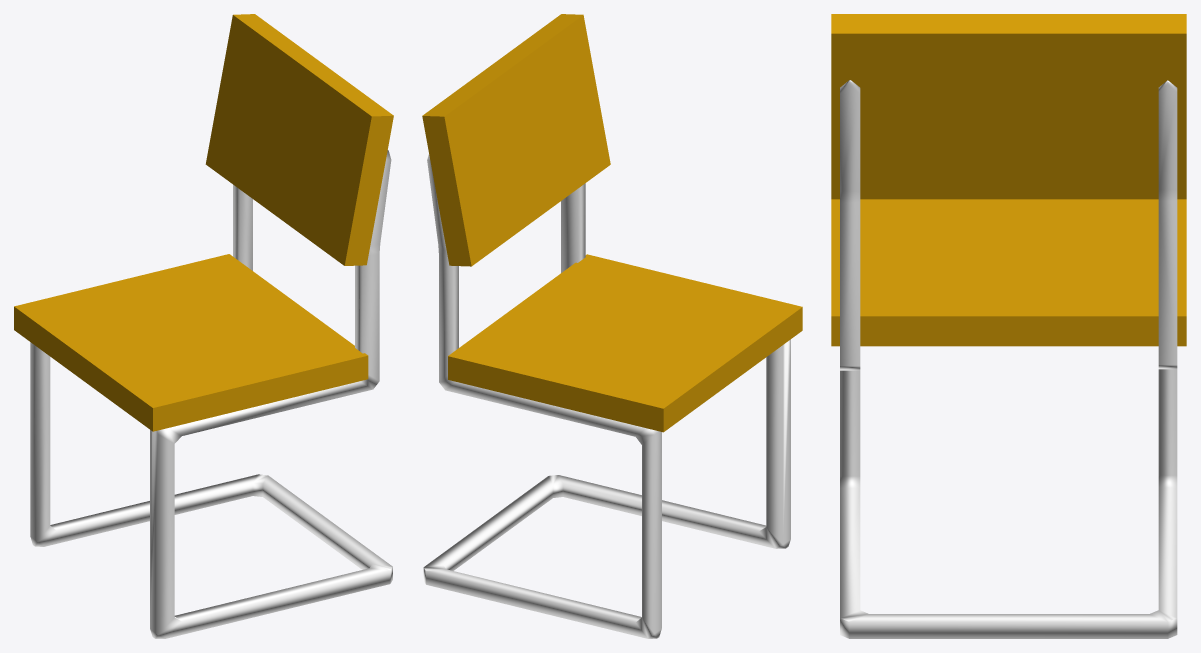
The model's file is G_Chair_Dining.fbx.
The picture shows the model from 3 angles, left to right: view 1: azimuth 30°, elevation 25°; view 2: azimuth 150°, elevation 25°; view 3: azimuth 270°, elevation 25°; orthographic projection. The views are drawn at different scales.
Visible parts, largest first — view 1: G_Chair_Dining; view 2: G_Chair_Dining; view 3: G_Chair_Dining.
Boxes of the visible parts, box(x1,y1,x2,y2) form: G_Chair_Dining: box(14, 14, 393, 638); G_Chair_Dining: box(422, 14, 802, 638); G_Chair_Dining: box(831, 14, 1186, 638).
Size of the model in its own units: 48.75 by 89.66 by 47.5.
Materials: 1 (1 with a texture image).
